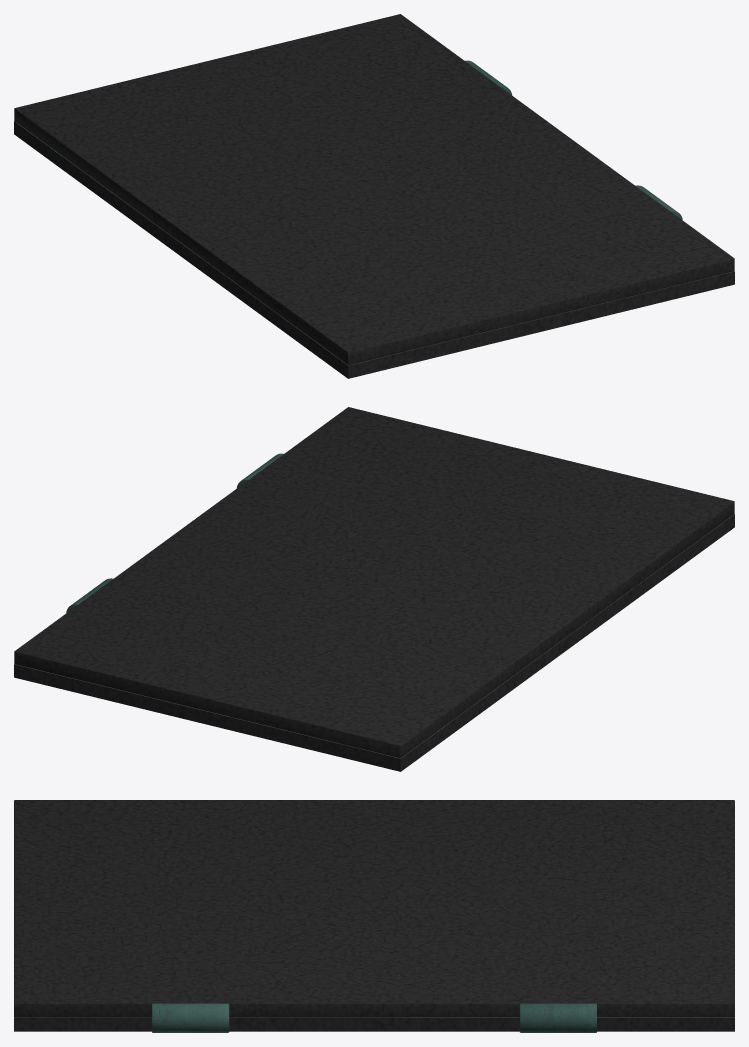
Rendered from laptop.fbx.
The picture shows the model from 3 angles, top to bottom: view 1: azimuth 30°, elevation 25°; view 2: azimuth 150°, elevation 25°; view 3: azimuth 270°, elevation 25°; orthographic projection. The views are drawn at different scales.
Parts seen in each view (by area): view 1: top, bottom; view 2: top, bottom; view 3: top, bottom, cillinders.
Part boxes in pixels (x1=…): top: x1=14, y1=14, x2=734, y2=365; bottom: x1=14, y1=121, x2=734, y2=378; top: x1=14, y1=407, x2=734, y2=758; bottom: x1=14, y1=514, x2=734, y2=771; top: x1=14, y1=800, x2=734, y2=1017; bottom: x1=14, y1=1017, x2=734, y2=1031; cillinders: x1=152, y1=1003, x2=596, y2=1032.
Bounding box in the file's own units: 79.7 × 5.02 × 116.
